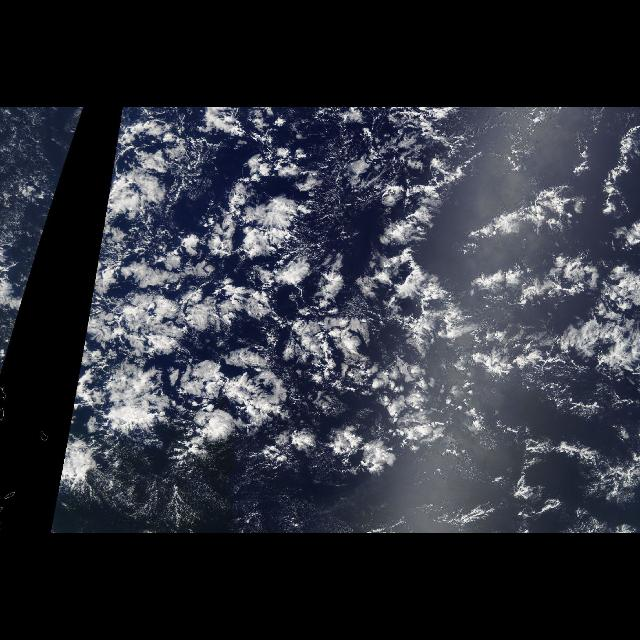Fish: (110, 248, 348, 440)
Flower: (59, 109, 469, 494), (59, 108, 85, 182)
Sugar: (437, 381, 638, 523), (100, 446, 412, 530)
